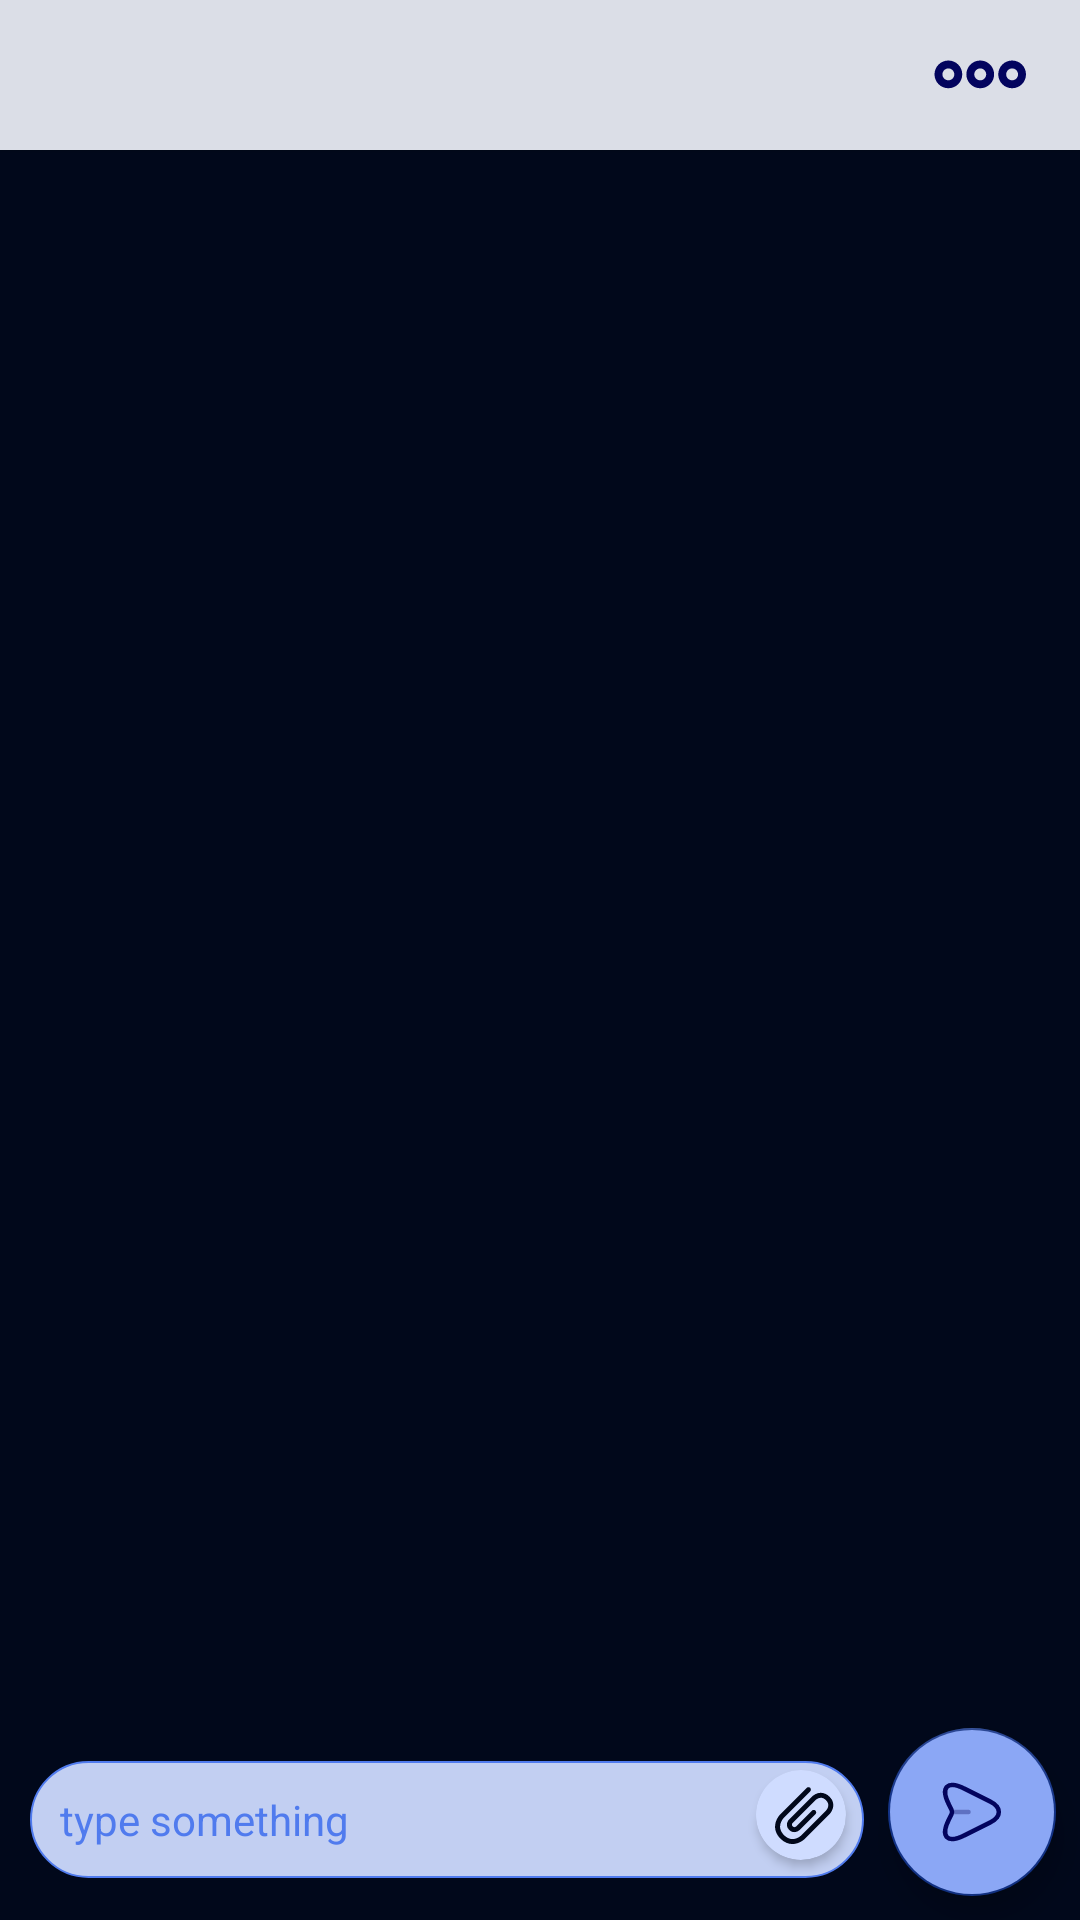

Locate icon controls on the screen. Image size 1080x1920, boxes as (x1, y1, x2, y2).
clip: (775, 1787, 834, 1844)
send: (888, 1728, 1056, 1896)
three dots: (934, 60, 1026, 89)
